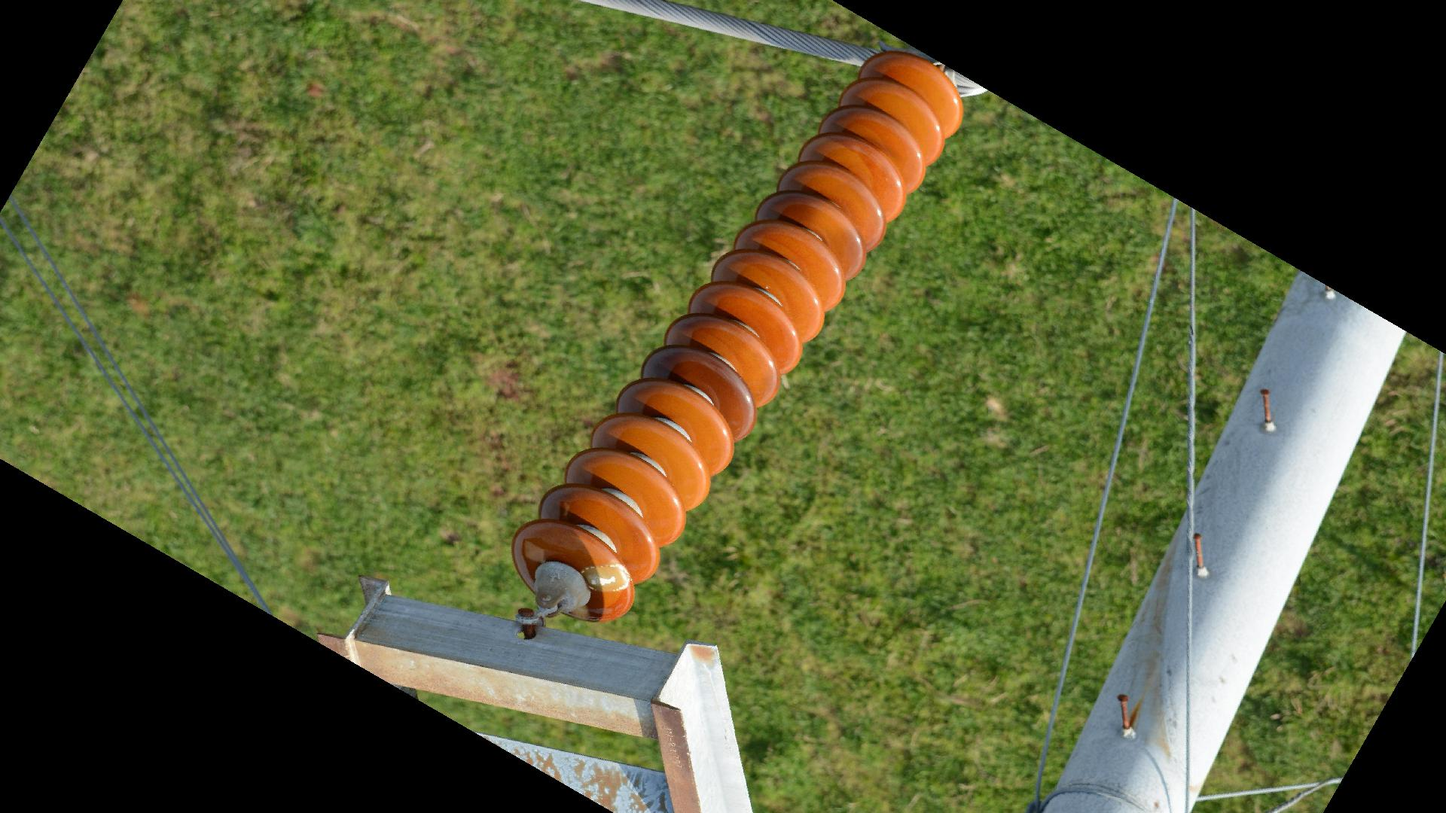insulator: (502, 47, 972, 628)
insulator_flashover: (579, 562, 633, 595)
